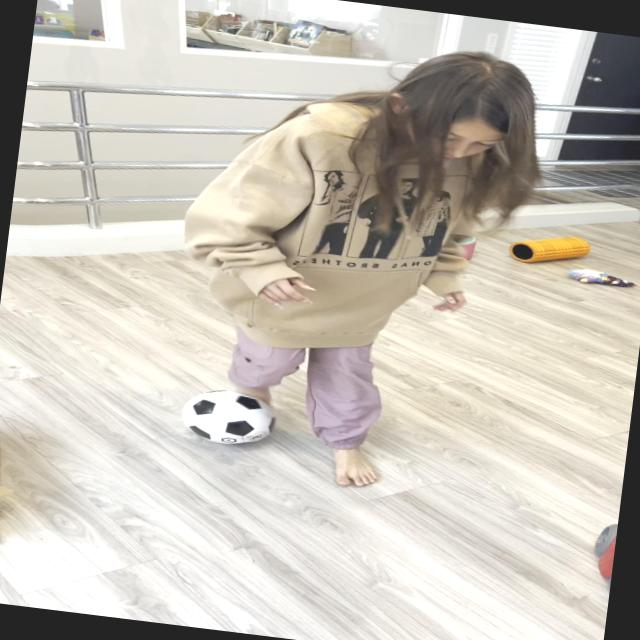Soccer Ball: (178, 385, 277, 450)
